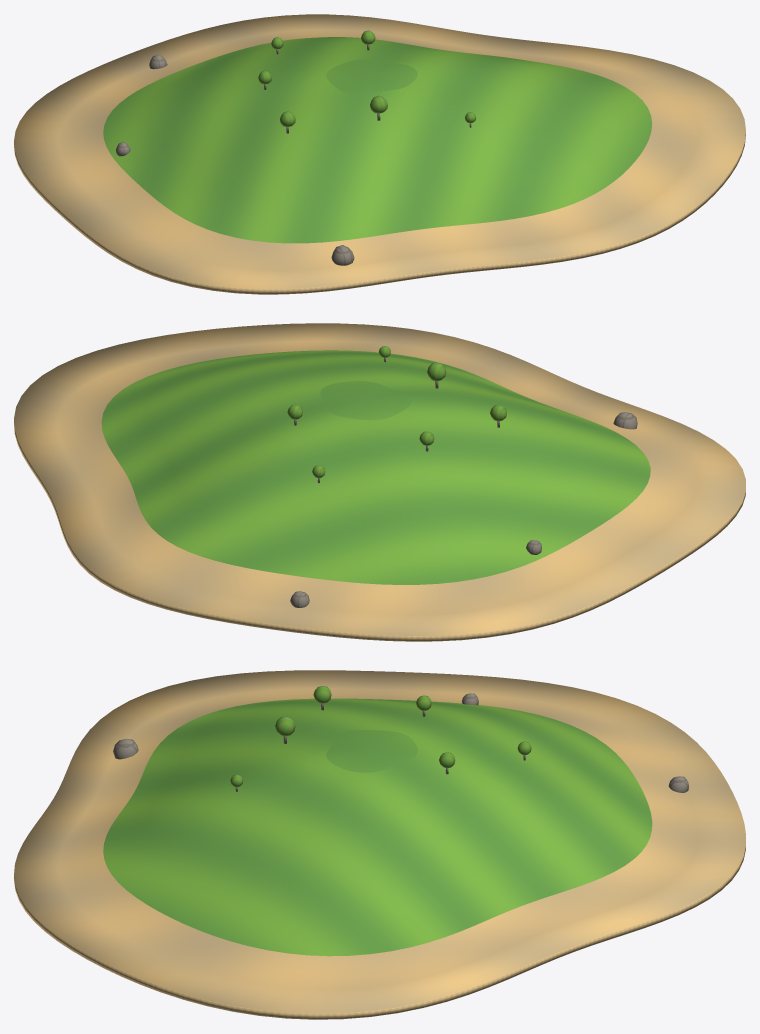
The model's file is ISL-L_LOD0.fbx.
3 renders of one model, top to bottom at view 1: azimuth 30°, elevation 25°; view 2: azimuth 150°, elevation 25°; view 3: azimuth 270°, elevation 25°, orthographic. The views are drawn at different scales.
Parts seen in each view (by area): view 1: ISL-L_LOD0; view 2: ISL-L_LOD0; view 3: ISL-L_LOD0.
Part boxes in pixels (x1,y1,x2,y2): ISL-L_LOD0: [14, 14, 745, 294]; ISL-L_LOD0: [14, 323, 745, 641]; ISL-L_LOD0: [14, 670, 745, 1019].
Bounding box in the file's own units: 188 × 170 × 27.26.
